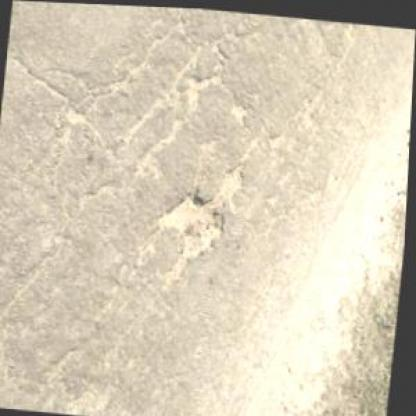pothole: (152, 154, 247, 286)
